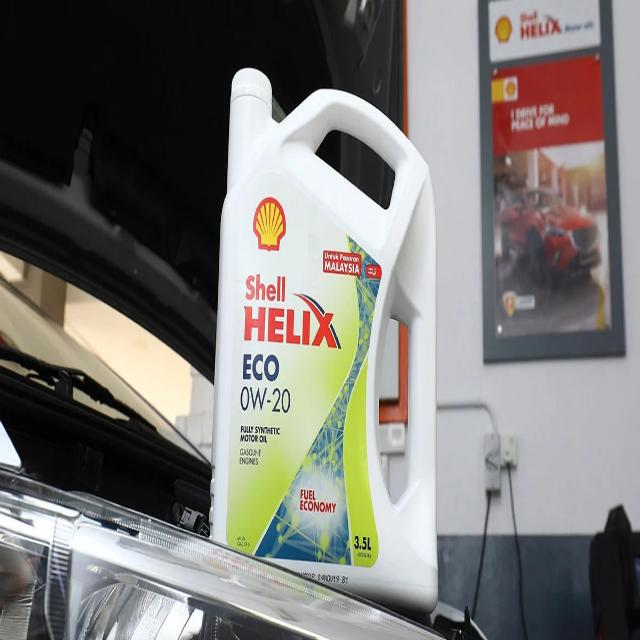motor_oil: (210, 59, 440, 616)
